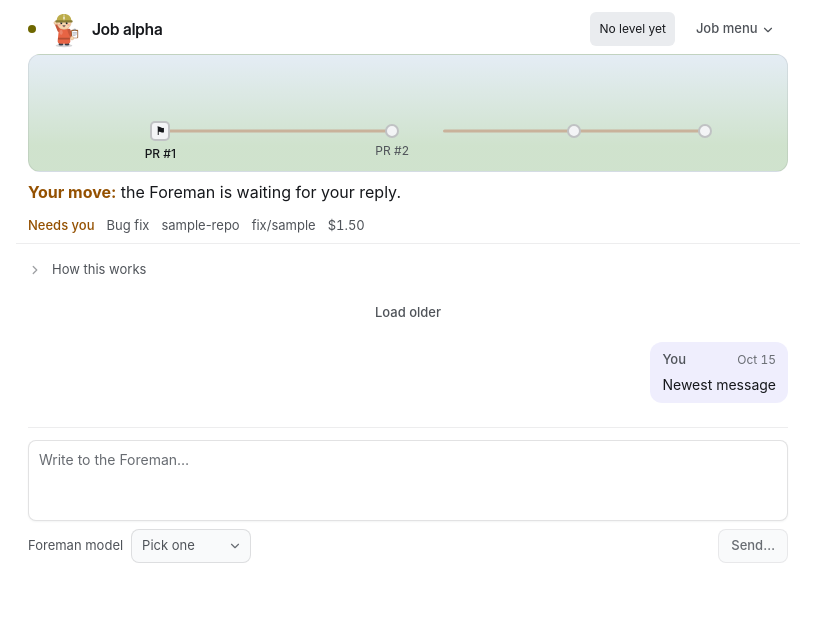
Test case: Foreman pane › says so when older items are gone
Expected: the text "Newest message" is shown, [662,374,776,394]
Click the button "Load older" at (408, 313), box [362,296,454,330]
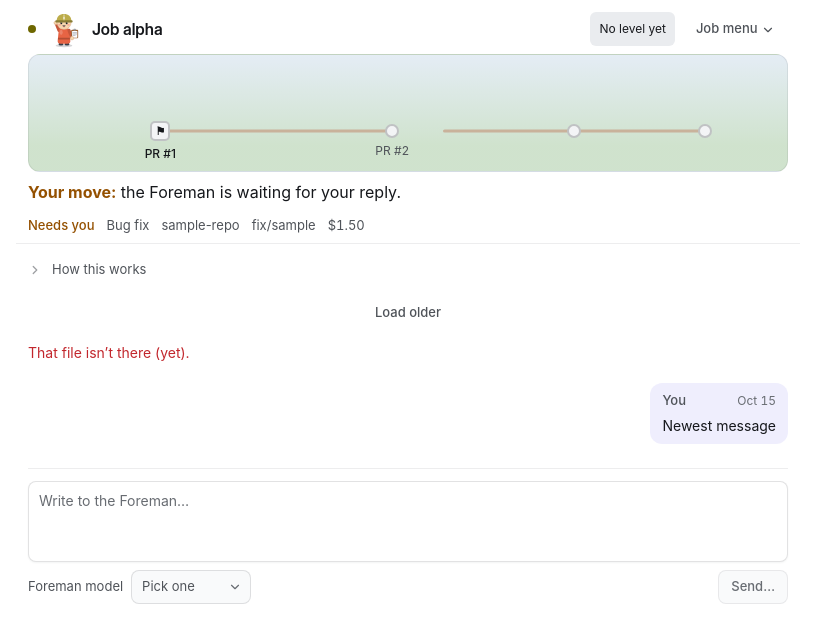
Expected: the text "Newest message" is shown, [662,414,776,436]
Expected: the message reads "That file isn’t there (yet).", [28,344,190,361]
